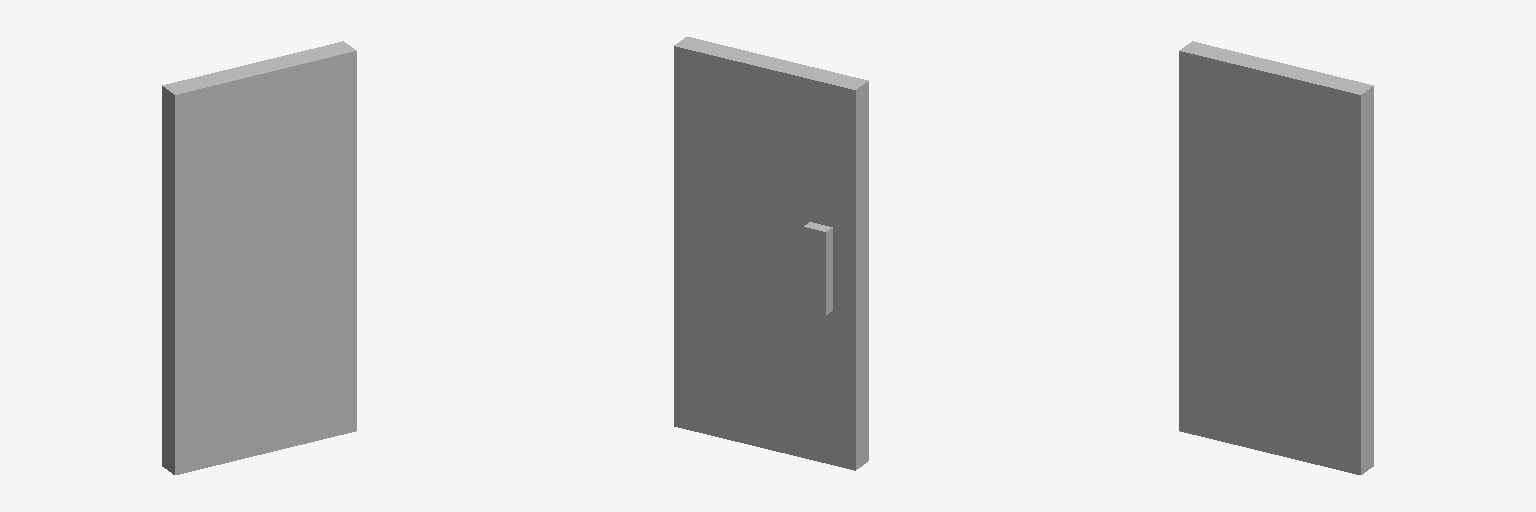
The model's file is door.obj.
The picture shows the model from 3 angles: view 1: azimuth 30°, elevation 25°; view 2: azimuth 150°, elevation 25°; view 3: azimuth 330°, elevation 25°; orthographic projection.
Visible parts, largest first — view 1: Cube; view 2: Cube; view 3: Cube.
Boxes of the visible parts, x1,y1,x2,y2 form: Cube: [162, 41, 356, 474]; Cube: [674, 37, 868, 470]; Cube: [1179, 41, 1373, 474].
Bounding box in the file's own units: 1 × 2 × 0.1875.